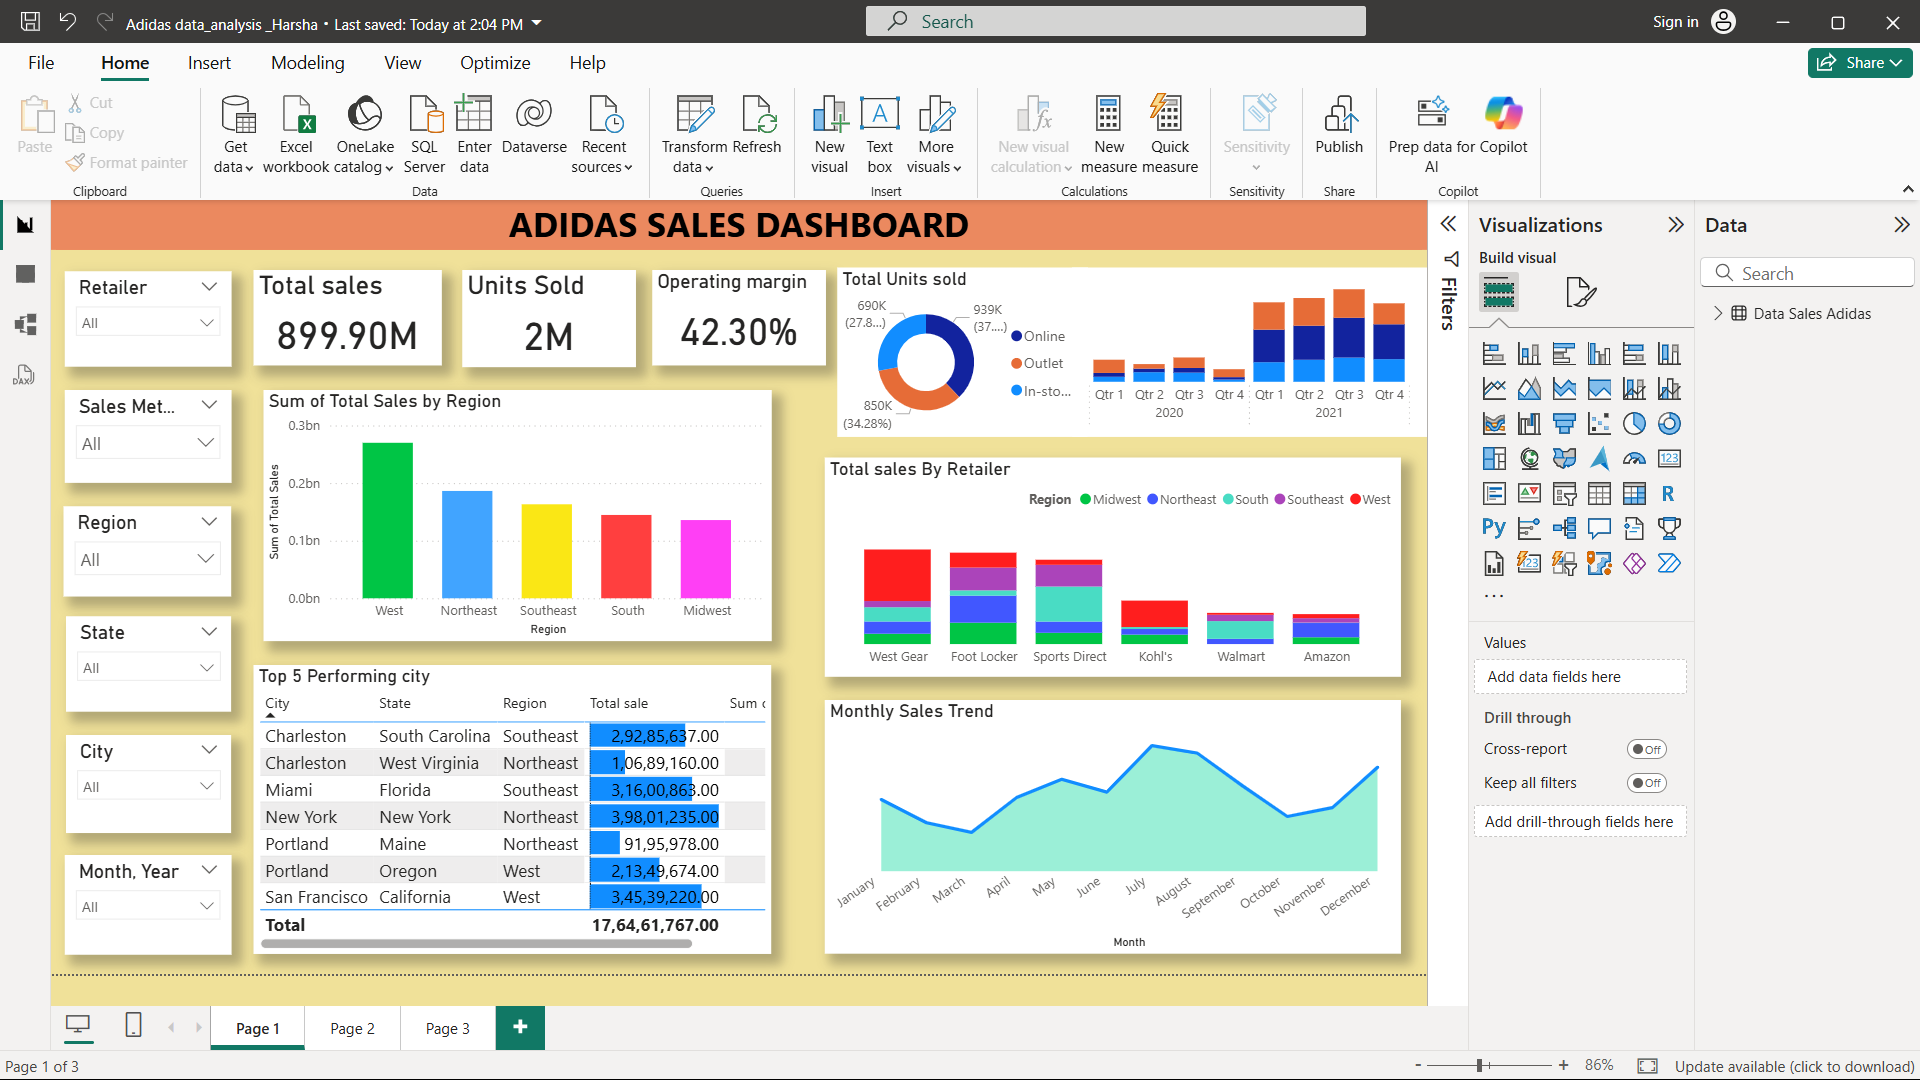

This screenshot's page, from the dashboard's own definition file:
{"tool":"powerbi","page":{"name":"Page 1","canvas":[1280,720],"ordinal":0},"visuals":[{"type":"slicer","fields":{"Values":["Data Sales Adidas.Retailer"]},"box":[12.5,66.2,155,88.8],"z":0},{"type":"textbox","title":"ADIDAS SALES DASHBOARD","box":[0,0,1280.3,46.7],"z":1000},{"type":"slicer","fields":{"Values":["Data Sales Adidas.Sales Method"]},"box":[12.5,176.2,155,86.2],"z":2000},{"type":"slicer","fields":{"Values":["Data Sales Adidas.Region"]},"box":[11.2,285,156.2,83.8],"z":3000},{"type":"slicer","fields":{"Values":["Data Sales Adidas.State"]},"box":[13.8,387.5,153.8,88.8],"z":4000},{"type":"slicer","fields":{"Values":["Data Sales Adidas.City"]},"box":[13.8,497.5,153.8,91.2],"z":5000},{"type":"slicer","fields":{"Values":["Data Sales Adidas.Invoice Date.Variation.Date Hierarchy.Month","Data Sales Adidas.Invoice Date.Variation.Date Hierarchy.Year"]},"box":[12.5,608.8,155,92.5],"z":6000},{"type":"card","title":"Total sales","fields":{"Values":["Data Sales Adidas.Total sale"]},"box":[188.8,65,175,88.8],"z":7000},{"type":"card","title":"Units Sold","fields":{"Values":["Data Sales Adidas.total Units sold"]},"box":[382.5,65,161.2,90],"z":8000},{"type":"card","title":"Operating margin","fields":{"Values":["Data Sales Adidas.Operating margins"]},"box":[558.8,65,161.2,88.8],"z":9000},{"type":"columnChart","fields":{"Category":["Data Sales Adidas.Region"],"Y":["Sum(Data Sales Adidas.Total Sales)"]},"box":[197.5,176.2,472.5,233.8],"z":10000},{"type":"tableEx","title":"Top 5 Performing city","fields":{"Values":["Data Sales Adidas.City","Data Sales Adidas.State","Data Sales Adidas.Region","Data Sales Adidas.Total sale","Sum(Data Sales Adidas.Units Sold)"]},"box":[188.8,432.5,481.2,268.8],"z":11000},{"type":"donutChart","title":"Total Units sold","fields":{"Y":["Data Sales Adidas.total Units sold"],"Category":["Data Sales Adidas.Sales Method"]},"box":[731.2,62.5,232.5,157.5],"z":12000},{"type":"columnChart","fields":{"Category":["Data Sales Adidas.Invoice Date.Variation.Date Hierarchy.Year","Data Sales Adidas.Invoice Date.Variation.Date Hierarchy.Quarter"],"Series":["Data Sales Adidas.Sales Method"],"Y":["Sum(Data Sales Adidas.Units Sold)"]},"box":[950,62.5,330,157.5],"z":13000},{"type":"columnChart","title":"Total sales By Retailer","fields":{"Category":["Data Sales Adidas.Retailer"],"Y":["Data Sales Adidas.total Units sold"],"Series":["Data Sales Adidas.Region"]},"box":[720,240,536.2,203.8],"z":14000},{"type":"areaChart","title":"Monthly Sales Trend","fields":{"Y":["Sum(Data Sales Adidas.Total Sales)"],"Category":["Data Sales Adidas.Invoice Date.Variation.Date Hierarchy.Month"]},"box":[720,465,536.2,236.2],"z":15000}]}

Visuals, with their boxes on the page's 1280x720 design canvas (x1, y1, x2, y2). These are canvas units, not pixel positions in the 1920x1080 screenshot, which may show the page scaled, cropped or inside an application window:
slicer - Data Sales Adidas.Retailer: [12,66,168,155]
"ADIDAS SALES DASHBOARD" textbox: [0,0,1280,47]
slicer - Data Sales Adidas.Sales Method: [12,176,168,262]
slicer - Data Sales Adidas.Region: [11,285,167,369]
slicer - Data Sales Adidas.State: [14,388,168,476]
slicer - Data Sales Adidas.City: [14,498,168,589]
slicer - Data Sales Adidas.Invoice Date.Variation.Date Hierarchy.Month x Data Sales Adidas.Invoice Date.Variation.Date Hierarchy.Year: [12,609,168,701]
"Total sales" card: [189,65,364,154]
"Units Sold" card: [382,65,544,155]
"Operating margin" card: [559,65,720,154]
columnChart - Data Sales Adidas.Region x Sum(Data Sales Adidas.Total Sales): [198,176,670,410]
"Top 5 Performing city" tableEx: [189,432,670,701]
"Total Units sold" donutChart: [731,62,964,220]
columnChart - Data Sales Adidas.Invoice Date.Variation.Date Hierarchy.Year x Data Sales Adidas.Invoice Date.Variation.Date Hierarchy.Quarter: [950,62,1280,220]
"Total sales By Retailer" columnChart: [720,240,1256,444]
"Monthly Sales Trend" areaChart: [720,465,1256,701]
